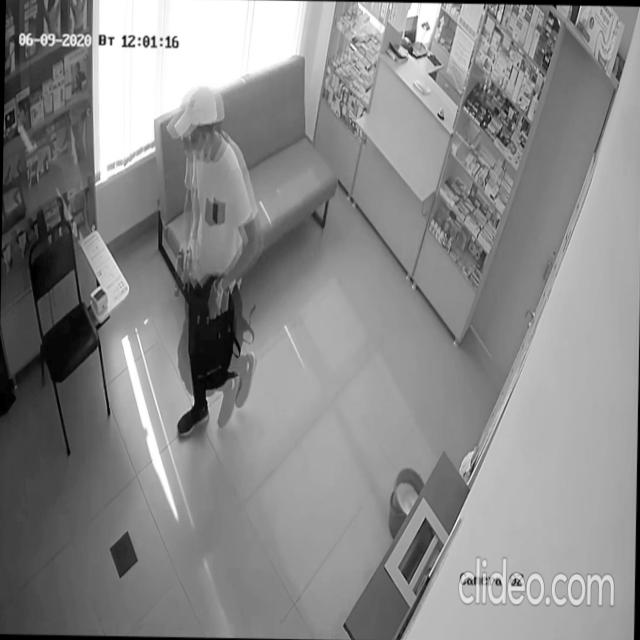gun: (173, 243, 194, 300)
person with a gun: (161, 78, 263, 440)
